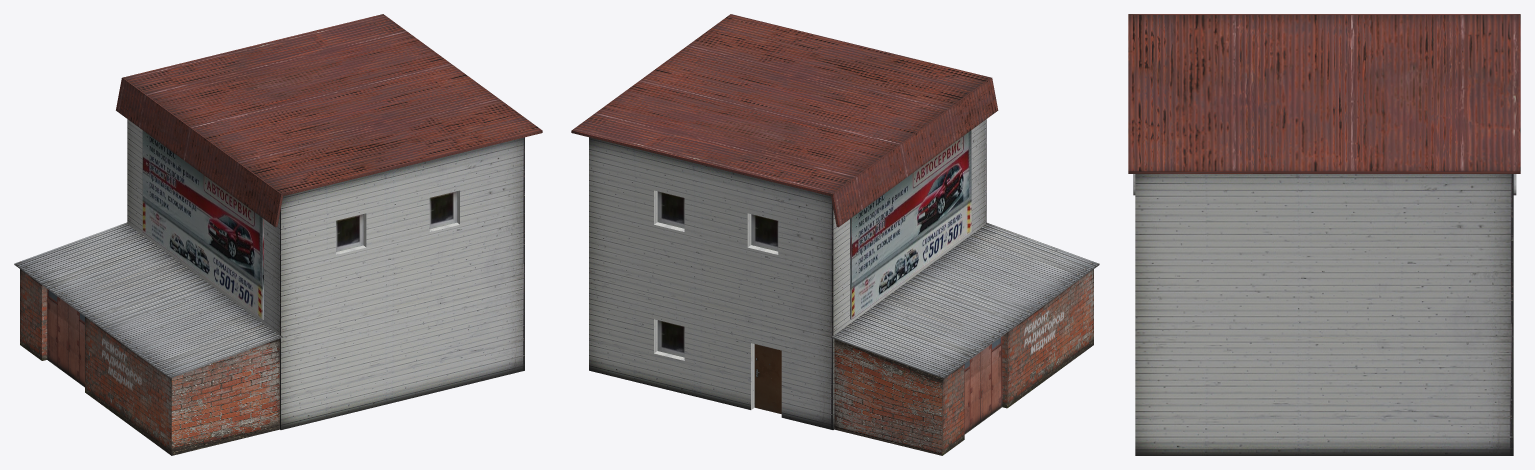
File: ruspoltract_servis1.FBX
3 views of the same model, side by side, from view 1: azimuth 30°, elevation 25°; view 2: azimuth 150°, elevation 25°; view 3: azimuth 270°, elevation 25° (orthographic). The views are drawn at different scales.
Visible parts, largest first — view 1: ruspoltract_servis1; view 2: ruspoltract_servis1; view 3: ruspoltract_servis1.
Part boxes in pixels (x1,y1,x2,y2): ruspoltract_servis1: (14, 14, 542, 455); ruspoltract_servis1: (571, 14, 1099, 455); ruspoltract_servis1: (1128, 14, 1520, 455).
Size of the model in its own units: 1215 by 904 by 747.
